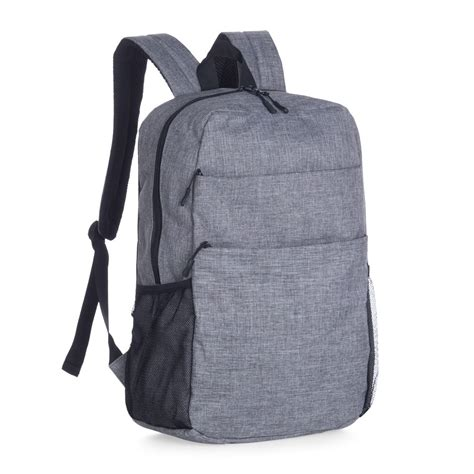nylon: (94, 31, 378, 445)
